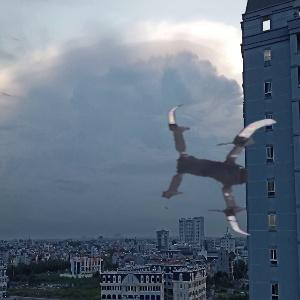drone: (157, 103, 295, 241)
